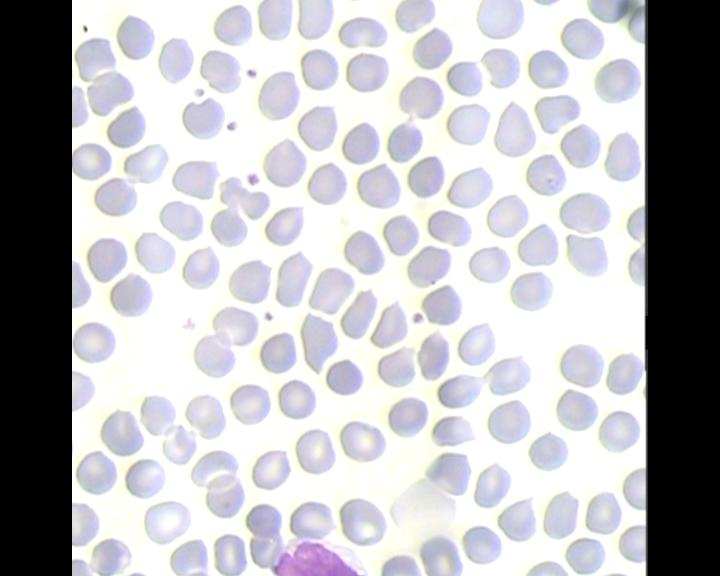mono: (267, 533, 371, 576)
